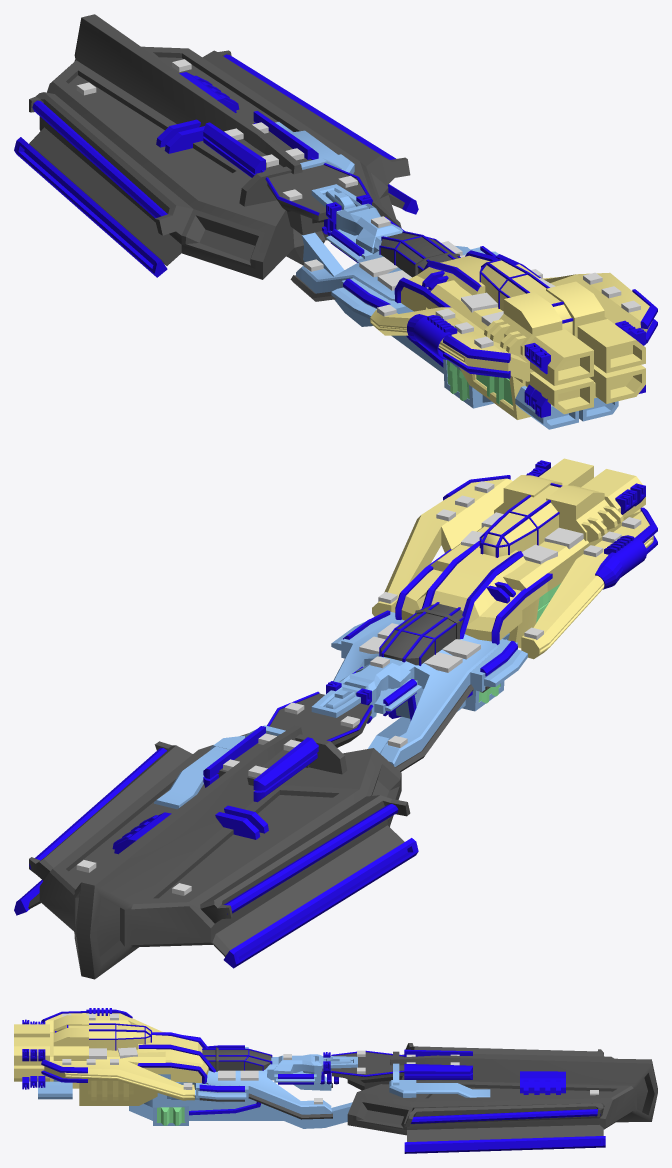
Rendered from Mother_1_UV.FBX.
3 views of the same model, one above another, from view 1: azimuth 30°, elevation 25°; view 2: azimuth 150°, elevation 25°; view 3: azimuth 270°, elevation 25° (orthographic). The views are drawn at different scales.
Visible parts, largest first — view 1: front, back, Pipes, Core, big_doors_down; view 2: front, back, Pipes, Core; view 3: front, Pipes, back, Core, small_doors_right.
Boxes of the visible parts, box(x1,y1,x2,y2) form: front: box(29, 14, 459, 319); back: box(370, 255, 652, 419); Pipes: box(14, 54, 657, 417); Core: box(275, 122, 618, 429); big_doors_down: box(476, 374, 512, 405); front: box(28, 604, 490, 979); back: box(372, 458, 653, 659); Pipes: box(14, 460, 657, 968); Core: box(154, 611, 527, 809); front: box(199, 1043, 657, 1141); Pipes: box(22, 1008, 605, 1153); back: box(14, 1013, 208, 1105); Core: box(38, 1047, 490, 1128); small_doors_right: box(156, 1107, 185, 1125).
Bounding box in the file's own units: 531 × 311 × 1801.
